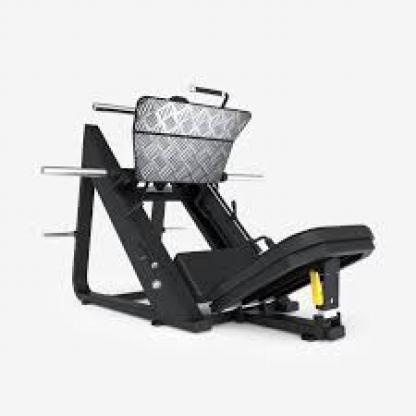leg press: (36, 76, 393, 364)
